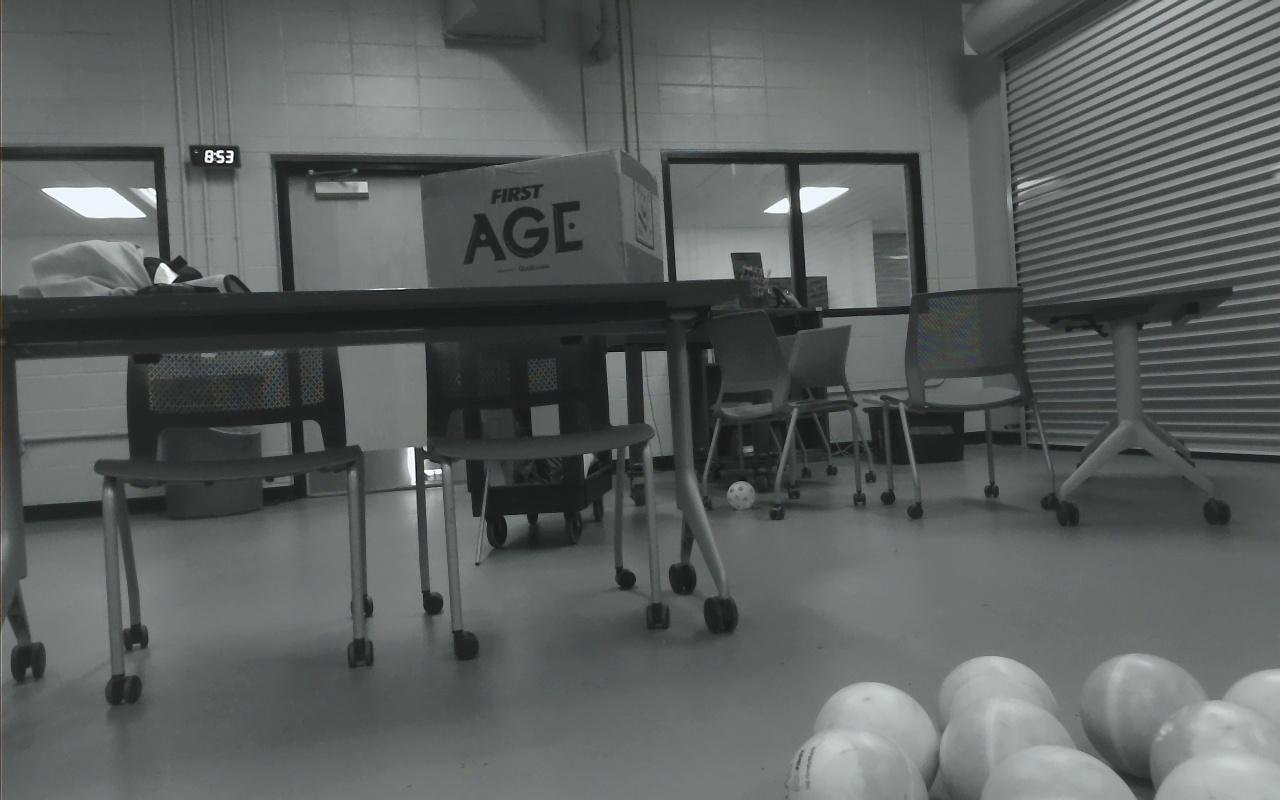Fuel: (1079, 652, 1208, 781), (937, 695, 1075, 800), (812, 681, 941, 793), (1149, 700, 1280, 795), (783, 729, 928, 800), (937, 655, 1060, 730), (980, 742, 1137, 800), (1155, 751, 1280, 800), (1221, 668, 1280, 738)
